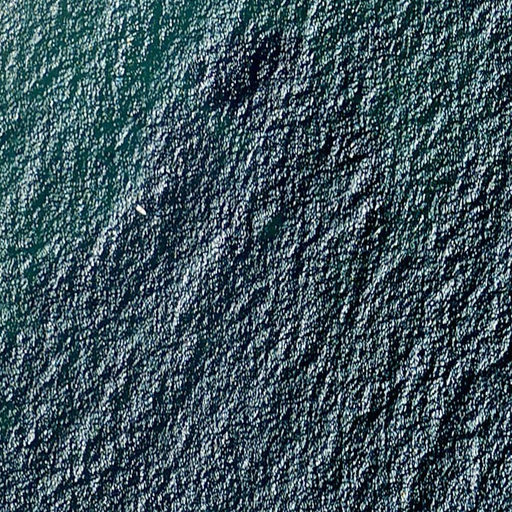ship: (133, 202, 145, 217)
